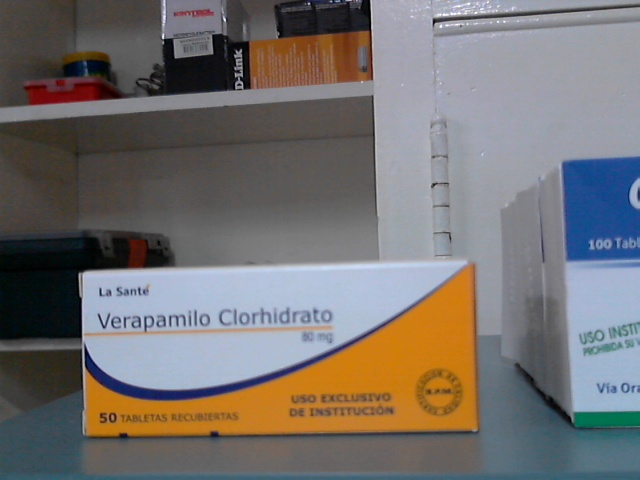LaSante: (84, 268, 478, 433)
